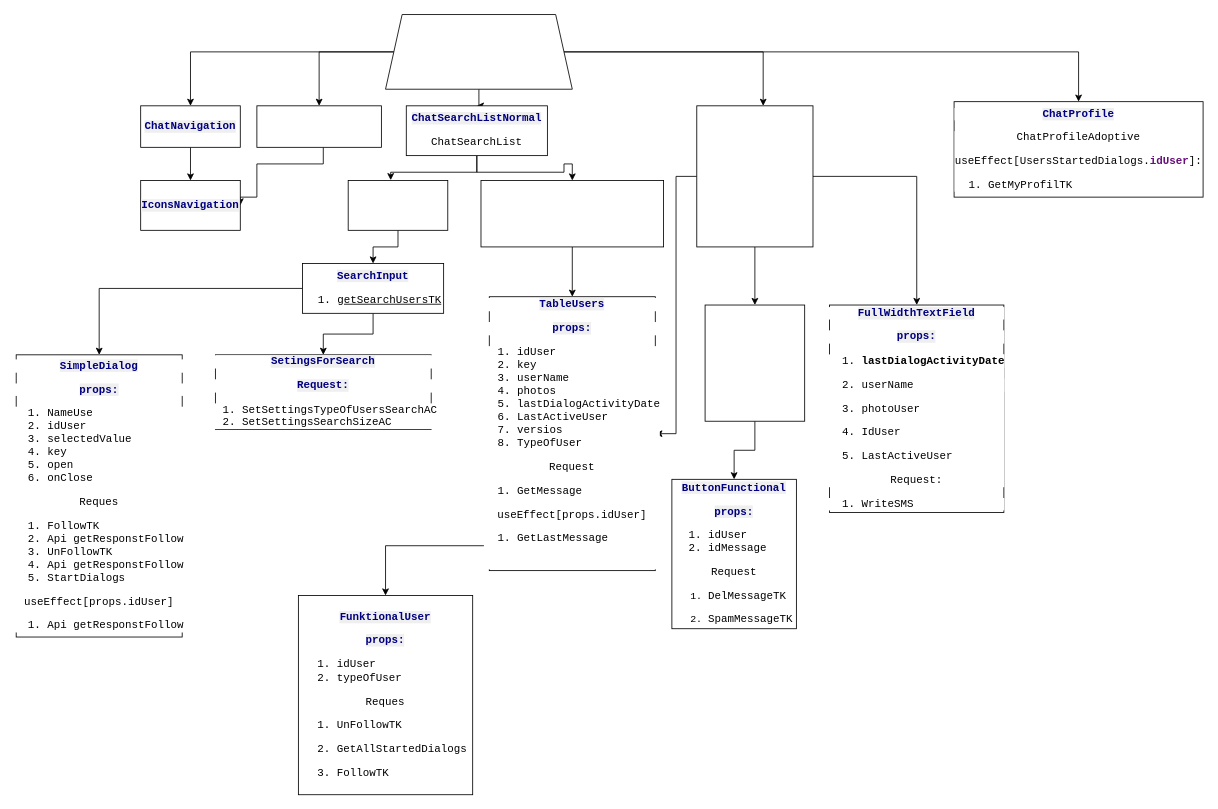
The diagram is 1218 pixels wide and 809 high, and some of its shapes have lost their labels. The shapes that lost their labels are listed below. From the top down, each one's box as (x1, y1, x2, y2) in pixels, then its label:
(385, 14, 572, 89): Chat GetAllStartedDialogs IfHaveNewMessageTK
(256, 105, 381, 147): ButtonMenuNavigation
(696, 105, 813, 247): ChatWind Request: GetNextPageMessage GetMessageBottomTS useEffect[]
(347, 180, 448, 230): ChatSearchButton
(480, 180, 664, 247): ChatAccesListUser Request Currenst_Page_DialogsAC
(704, 304, 805, 421): ChatMessages props: idUser photoUser Messages useEffect[]
